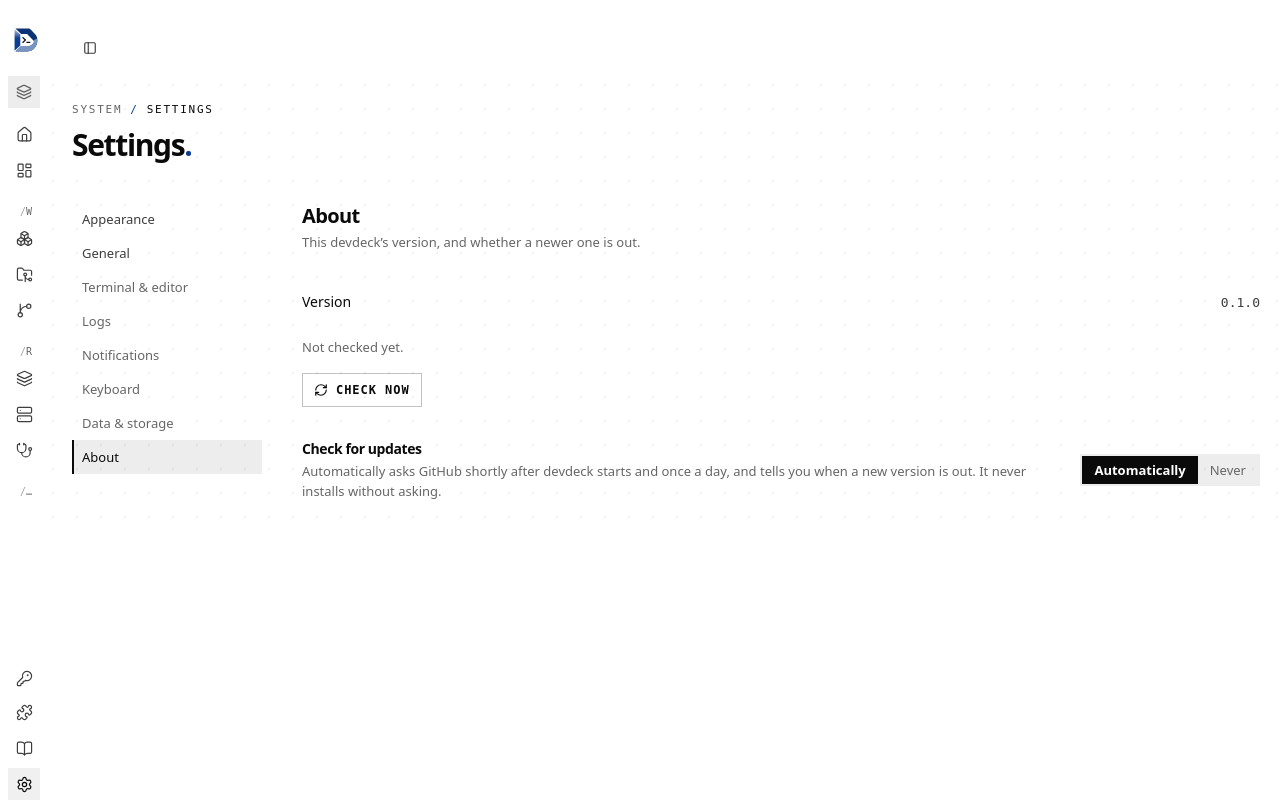
it: Settings → About › says why a check failed
Click the button "Check now": (362, 390) [302,373,422,407]
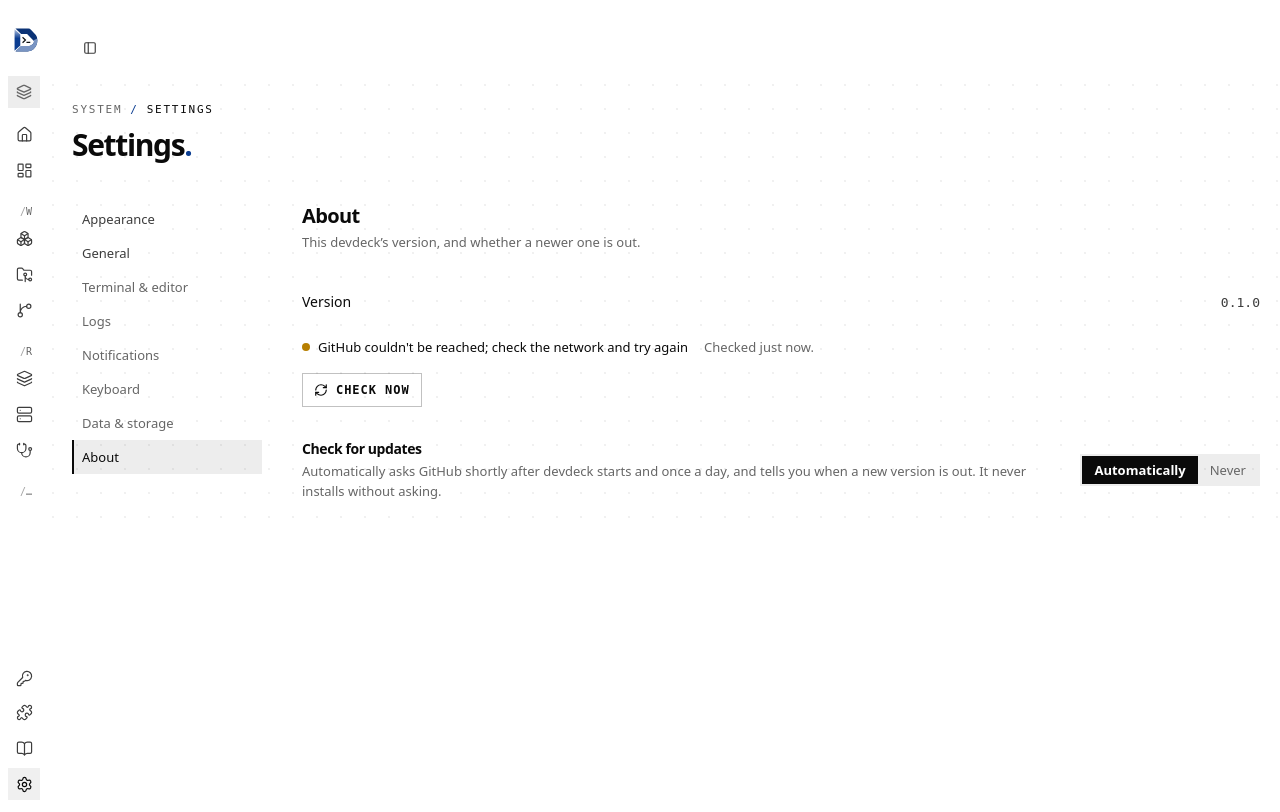
Check: the message shows "GitHub couldn't be reached", box [318,338,688,356]
